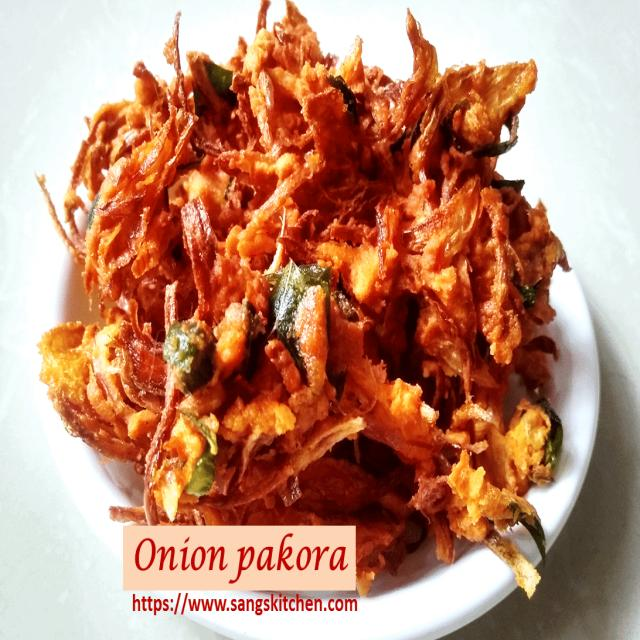BAJI: (32, 17, 567, 572)
